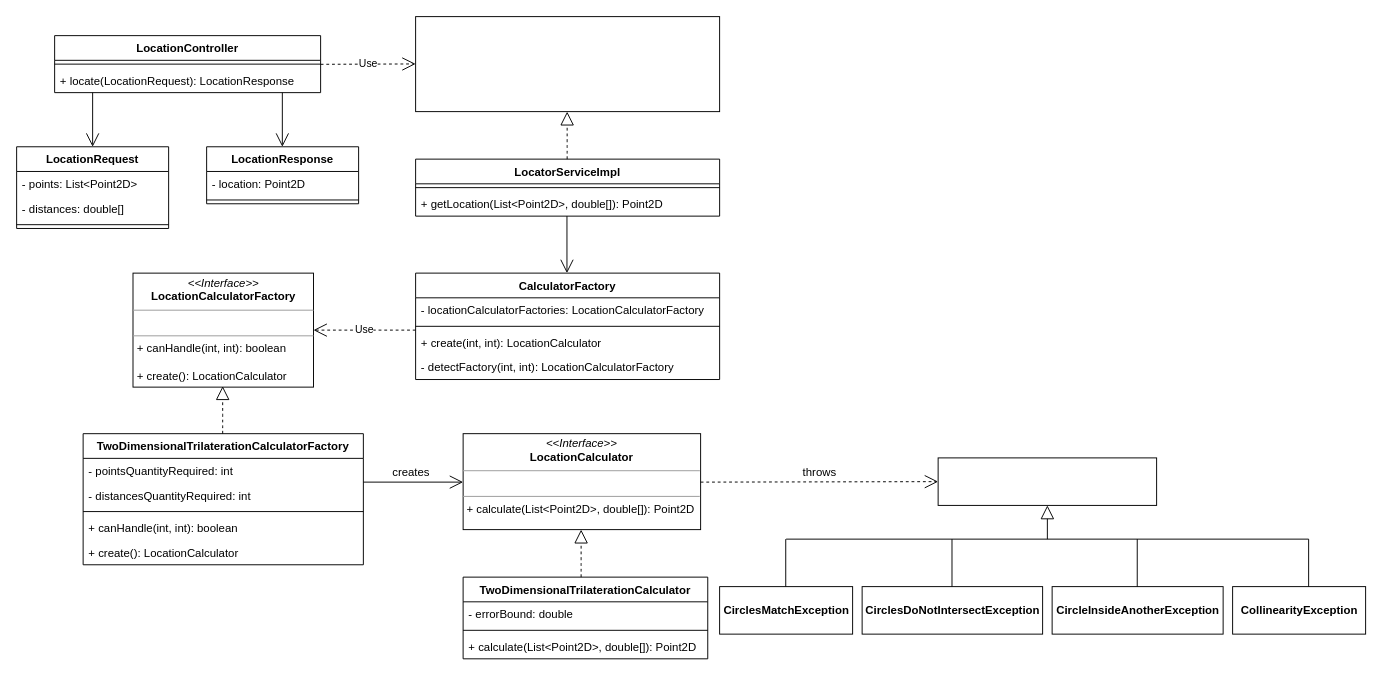
This 1382x678 diagram has some shape labels left out. Each missing label, with the centre of its shape:
"<<Interface>> LocatorService + getLocation(List<Point2D>, double[]): Point2D" belongs at (567,64).
"TwoDimensionalTrilaterationException" belongs at (1047,481).
